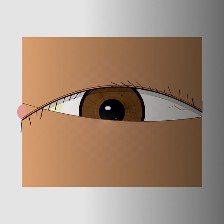pinguecula_lesion: (26, 87, 75, 126)
